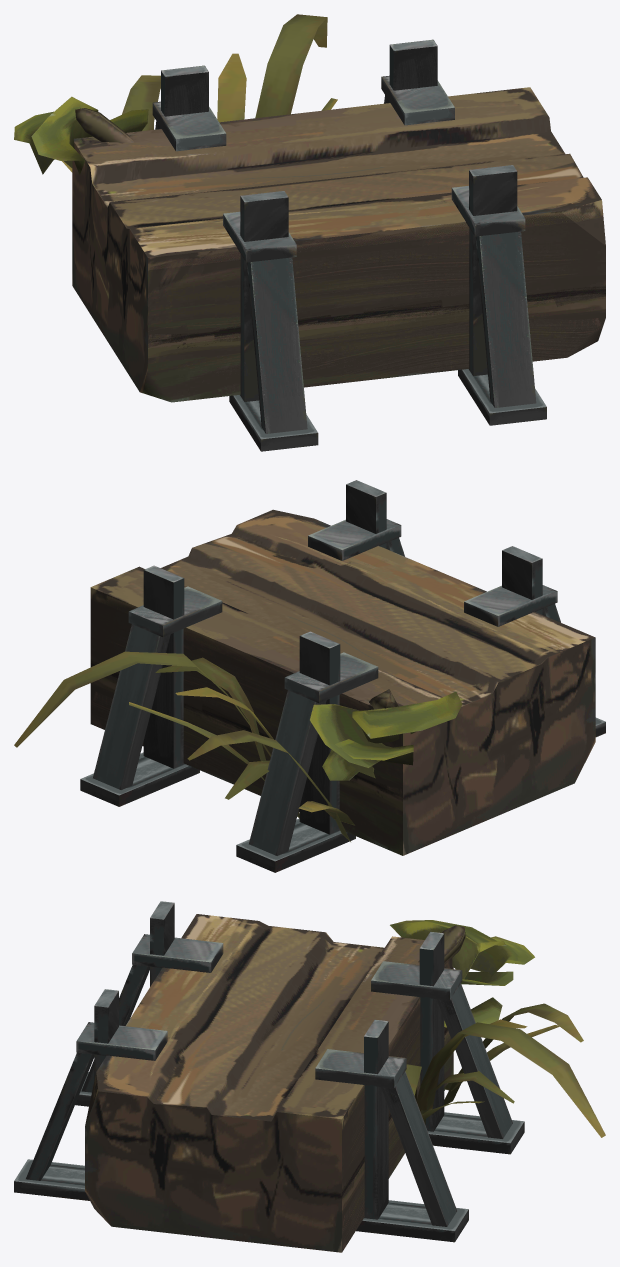
Rendered from S_survive_shaw_res.fbx.
3 renders of one model, top to bottom at view 1: azimuth 30°, elevation 25°; view 2: azimuth 150°, elevation 25°; view 3: azimuth 270°, elevation 25°, orthographic. The views are drawn at different scales.
Visible parts, largest first — view 1: S_survive_shaw_res; view 2: S_survive_shaw_res; view 3: S_survive_shaw_res.
Boxes of the visible parts, bbox=[...] form: S_survive_shaw_res: bbox=[14, 14, 605, 451]; S_survive_shaw_res: bbox=[14, 480, 605, 872]; S_survive_shaw_res: bbox=[14, 901, 605, 1252].
Size of the model in its own units: 0.953 by 0.4178 by 1.16.
Materials: 1 (1 with a texture image).
